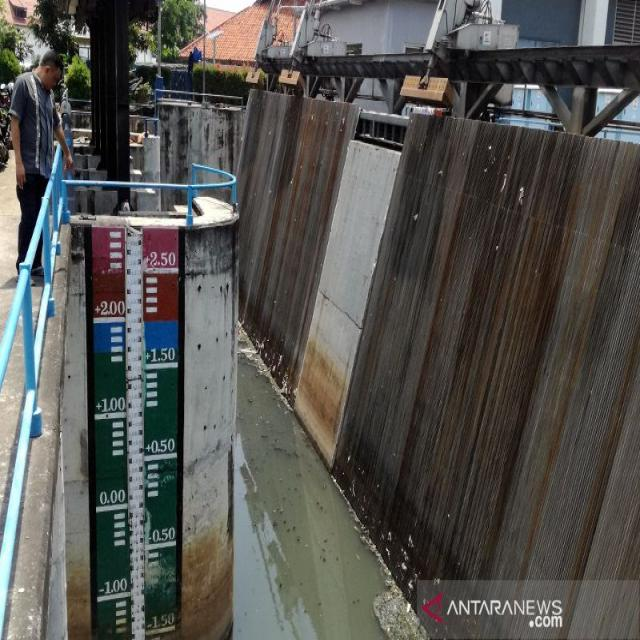ruler: (74, 207, 195, 640)
value: (144, 607, 179, 640), (96, 574, 132, 604), (94, 392, 127, 420), (94, 484, 129, 510), (144, 433, 176, 461), (144, 343, 177, 370), (142, 522, 177, 547), (143, 250, 183, 271), (94, 299, 129, 321)
